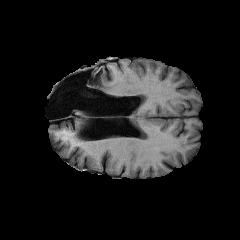glioma: (54, 67, 114, 103)
